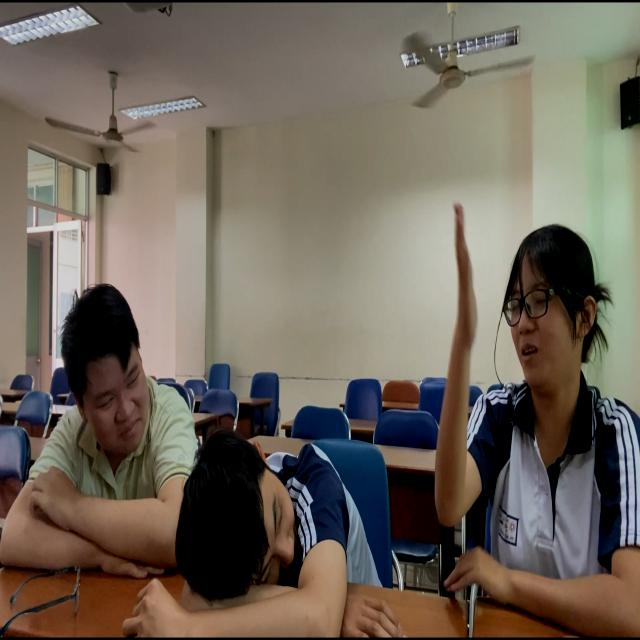raise_hand: (410, 168, 640, 640)
sleep: (1, 258, 209, 594), (117, 393, 396, 640)
